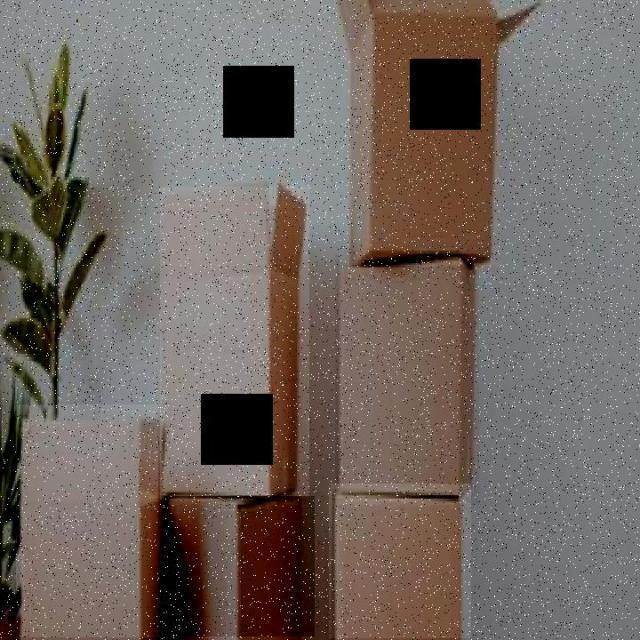box: (160, 186, 310, 499), (338, 0, 500, 265), (335, 254, 479, 506), (16, 404, 158, 638), (329, 484, 471, 638), (163, 496, 314, 636)
